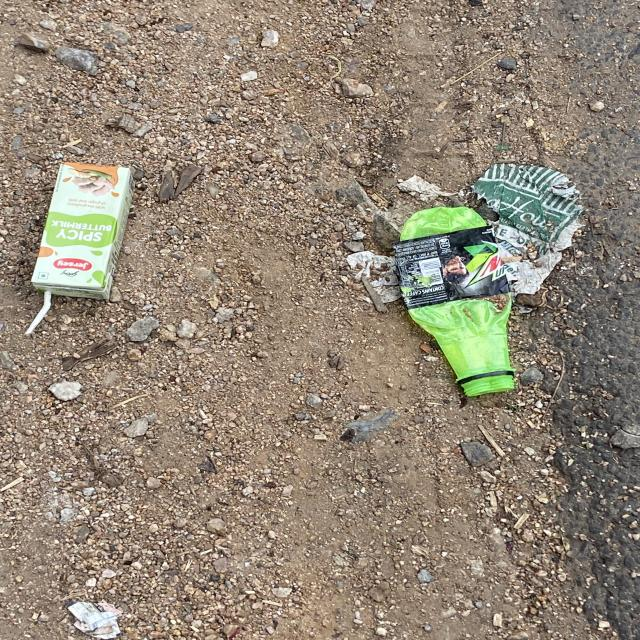paper: (28, 162, 133, 310), (473, 163, 583, 294)
plastic: (394, 206, 515, 396)
